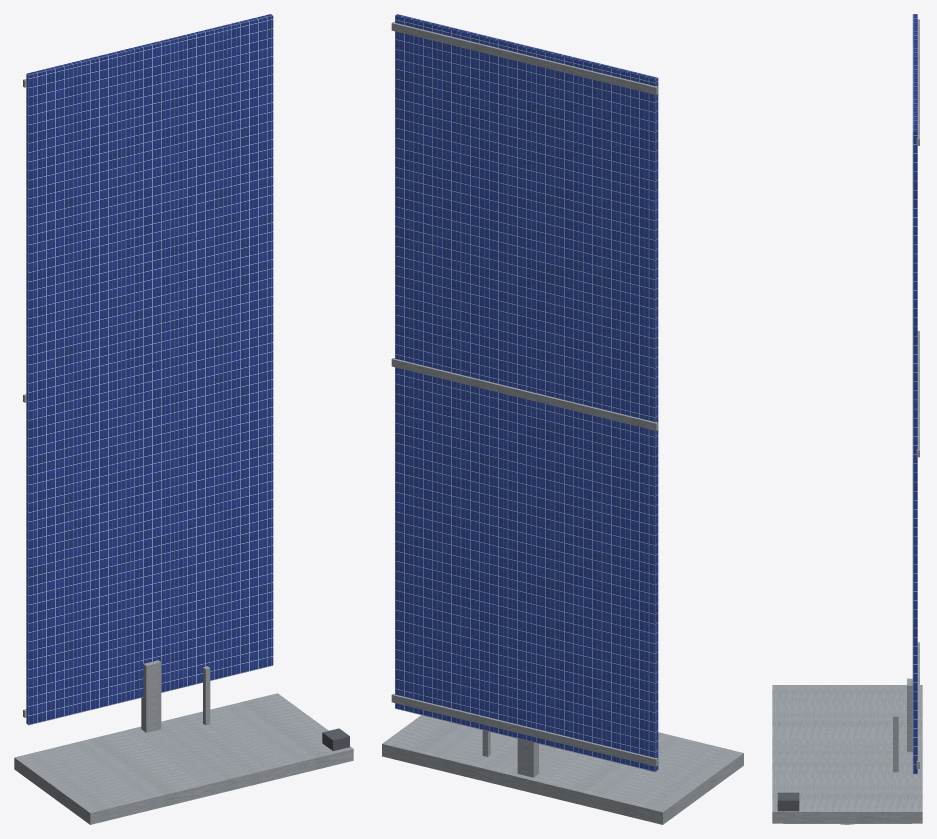
Rendered from starlink.glb.
3 views of the same model, side by side, from view 1: azimuth 30°, elevation 25°; view 2: azimuth 150°, elevation 25°; view 3: azimuth 270°, elevation 25° (orthographic). The views are drawn at different scales.
Size of the model in its own units: 2.8 by 7.2 by 1.4.
Materials: 4 (4 with a texture image).
